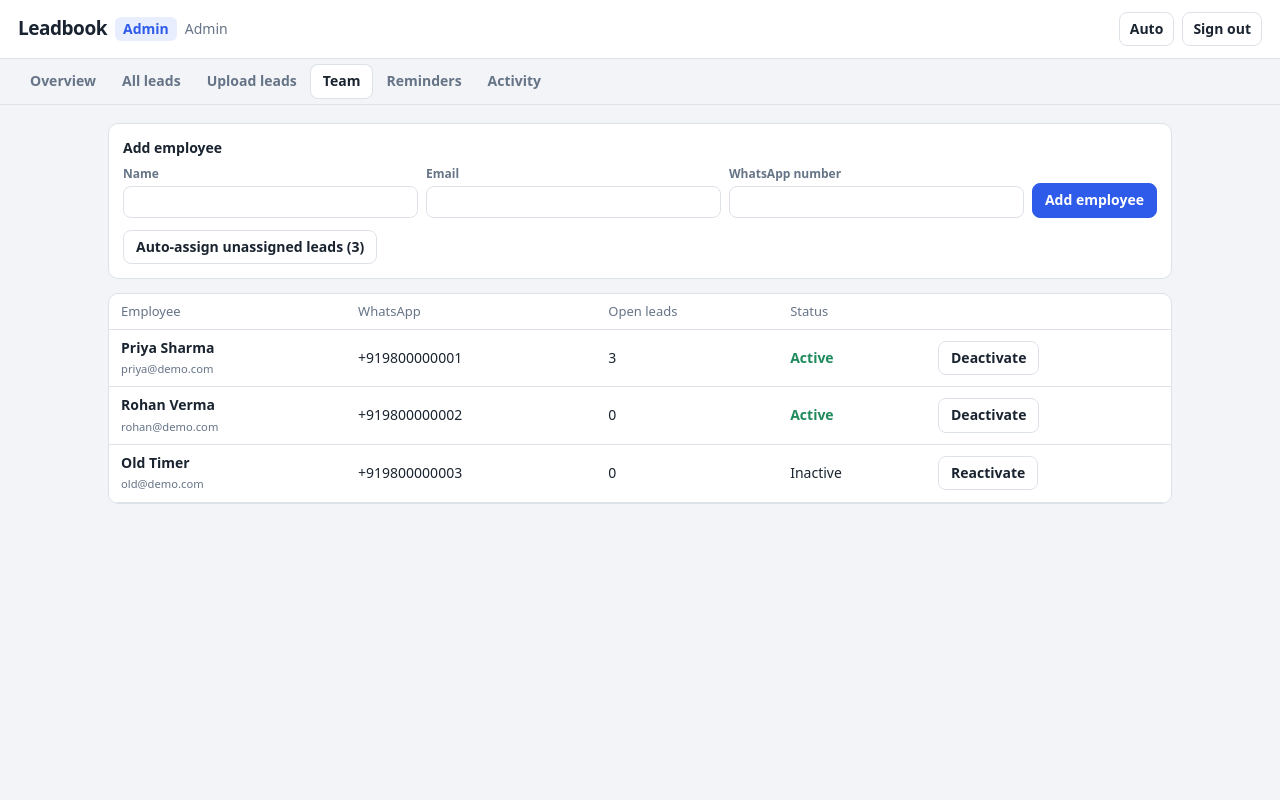
Test: Team (7.5) › explains when the last active employee cannot be deactivated
The width and height of the screenshot is (1280, 800).
Click the button with aria-label "Deactivate Priya Sharma" at x=989, y=358, box [938, 341, 1039, 375]
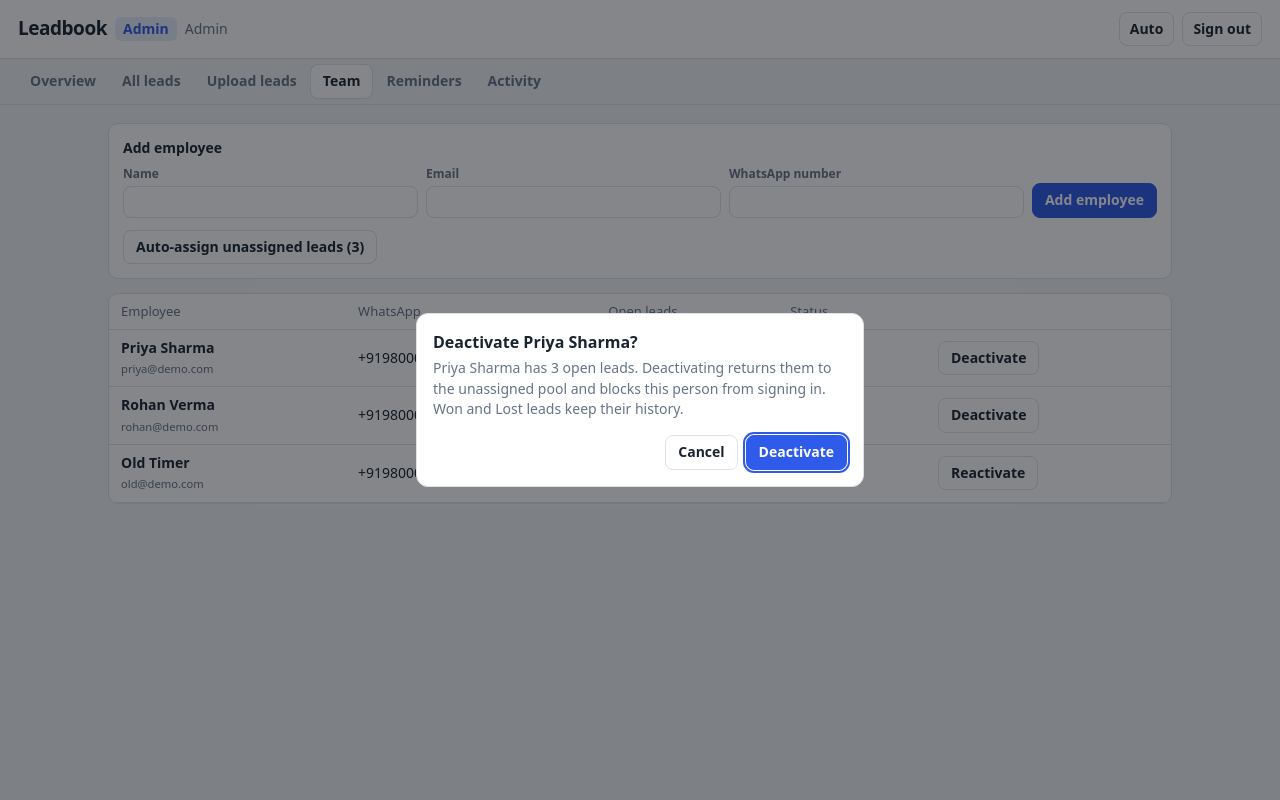
Click the button "Deactivate" at x=796, y=452, box [746, 435, 847, 470]
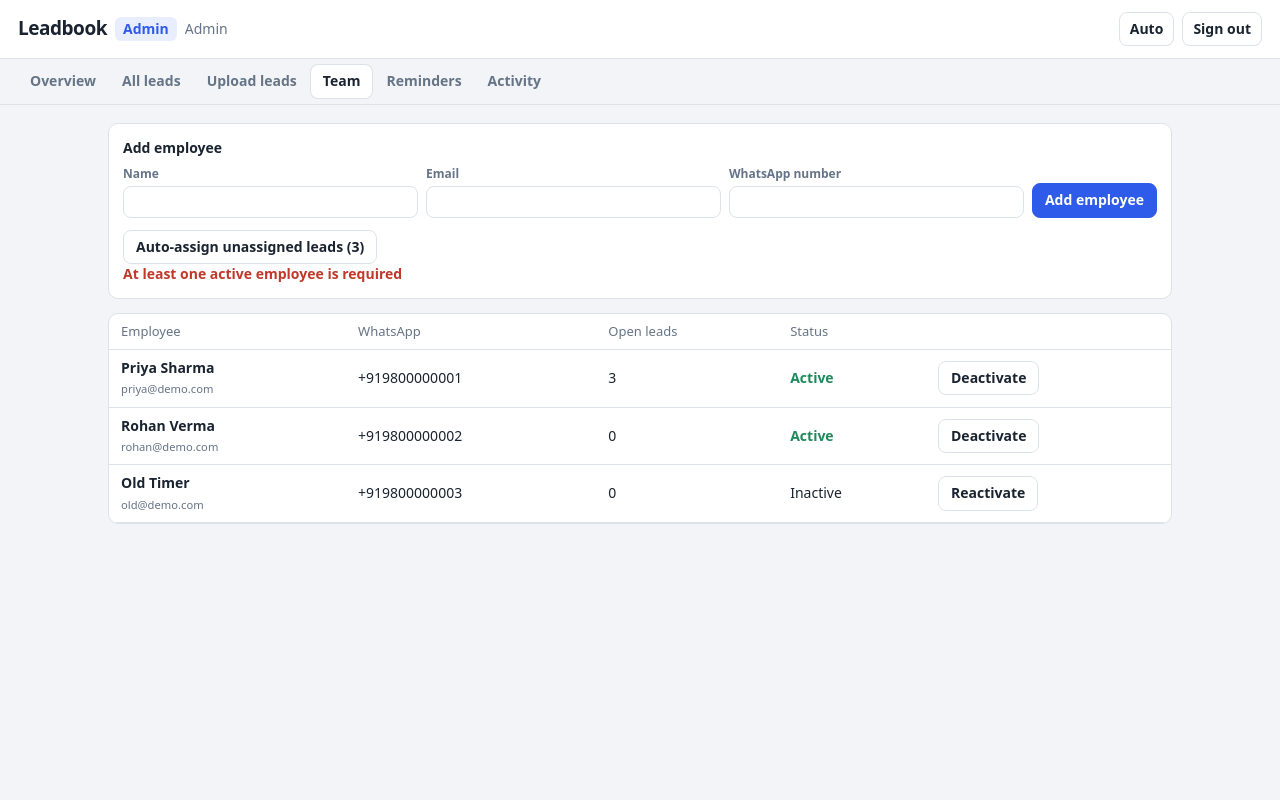
Check: the message shows "At least one active employee", box [123, 264, 402, 283]
Check: the dialog is gone
